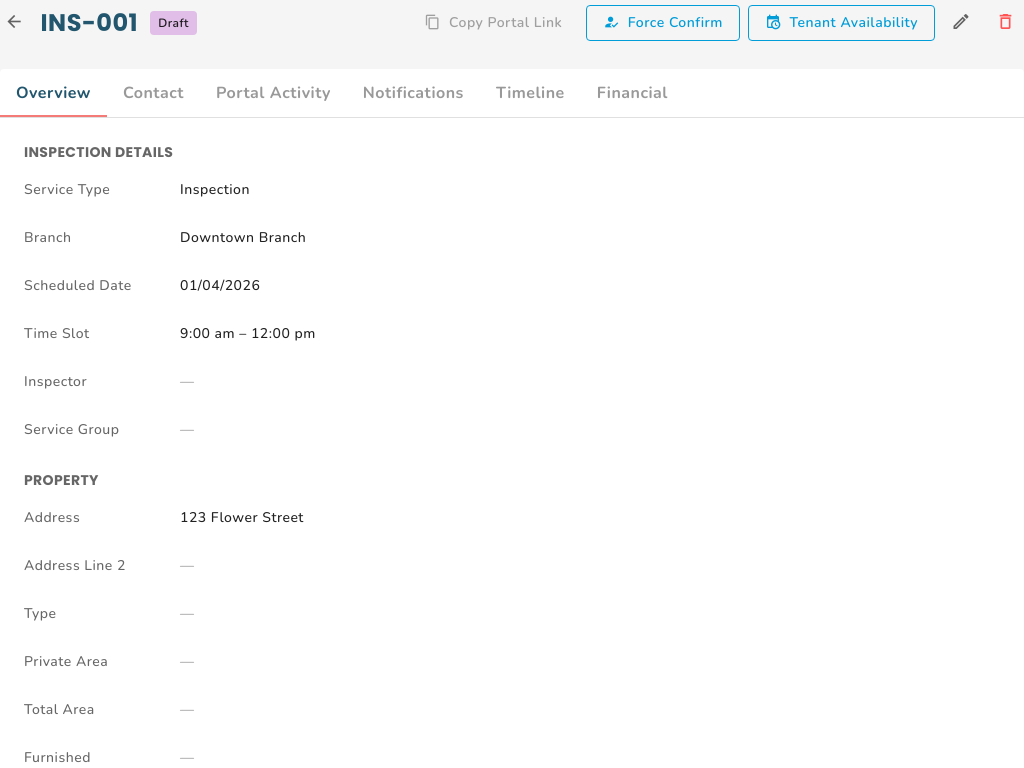
Test: AppointmentDetailPage › switches to contact tab on click
The width and height of the screenshot is (1024, 768).
Click the tab "Contact". click: [154, 93]
box: [107,69,200,117]
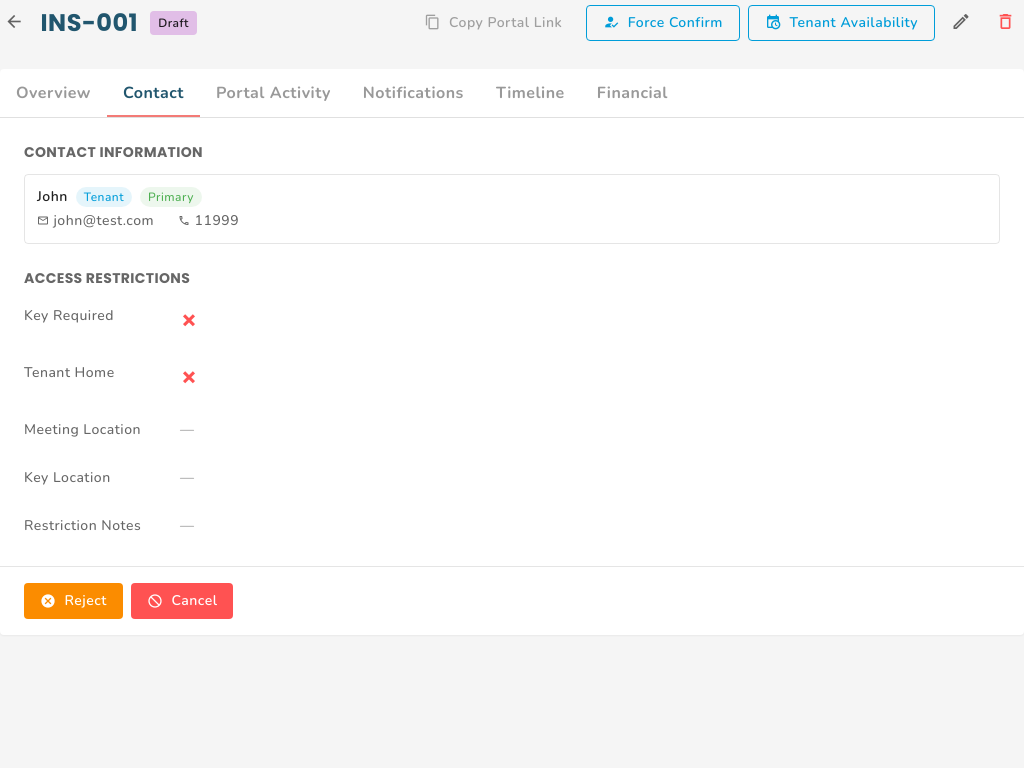
Check: the heading "Contact Information" is shown, box [24,142,203,162]
